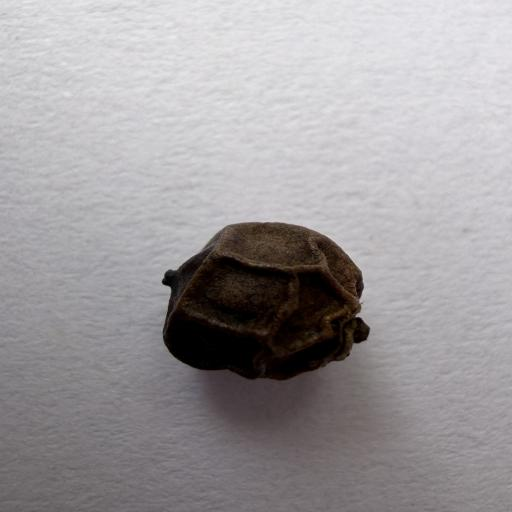Black_pepper: (146, 208, 390, 390)
